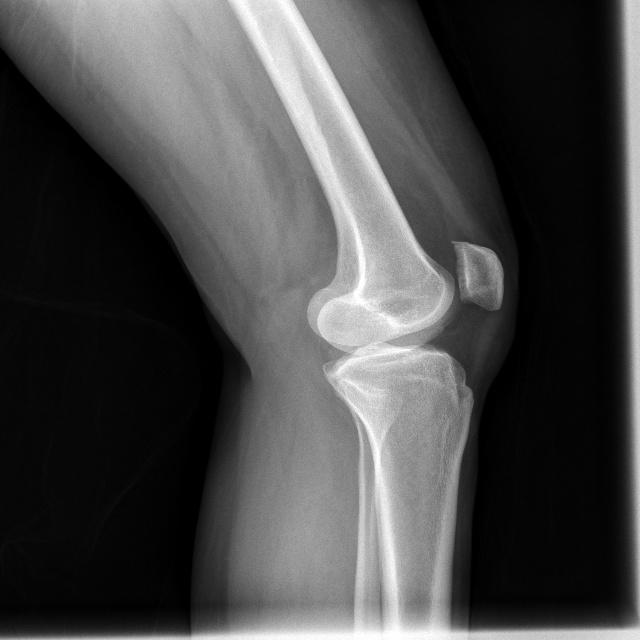Knee: (303, 238, 504, 411)
